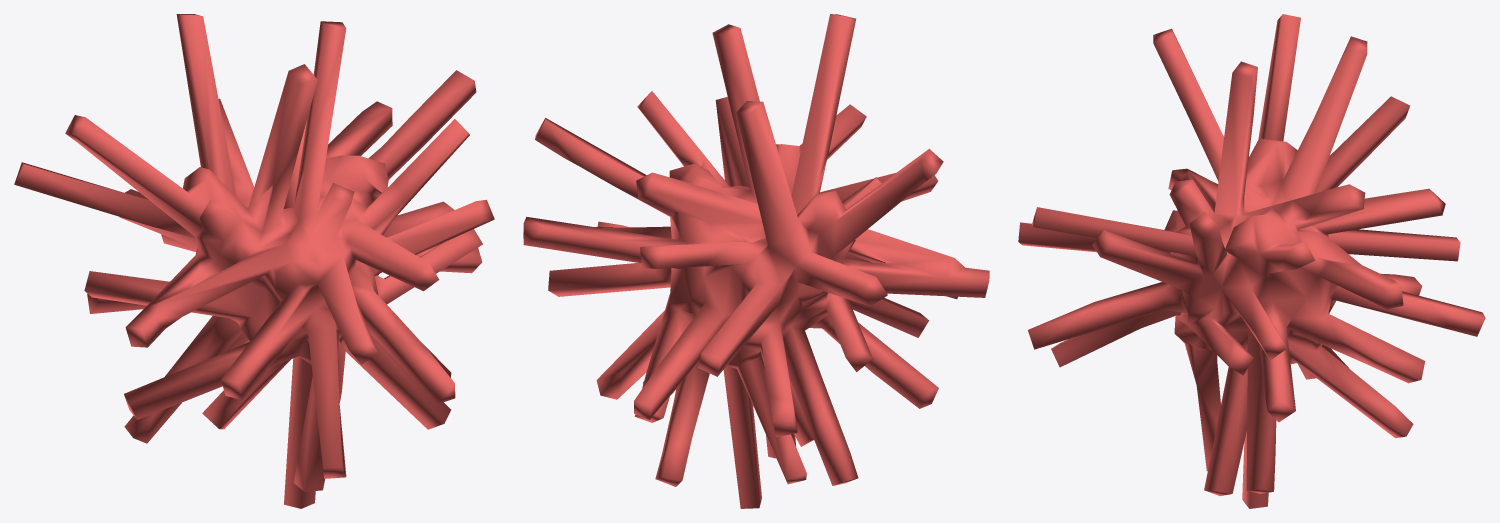
The model's file is genericvirus.fbx.
The picture shows the model from 3 angles, left to right: view 1: azimuth 30°, elevation 25°; view 2: azimuth 150°, elevation 25°; view 3: azimuth 270°, elevation 25°; orthographic projection. The views are drawn at different scales.
Visible parts, largest first — view 1: sun-virus; view 2: sun-virus; view 3: sun-virus.
Boxes of the visible parts, left/top/right/bottom form: sun-virus: left=14, top=14, right=494, bottom=508; sun-virus: left=523, top=14, right=989, bottom=508; sun-virus: left=1018, top=14, right=1485, bottom=508.
Bounding box in the file's own units: 20347 × 22768 × 21274.
